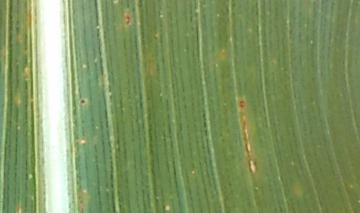tarspot: (122, 8, 136, 28), (237, 96, 248, 111), (77, 95, 89, 108)
